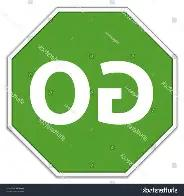Go: (9, 7, 177, 175)
